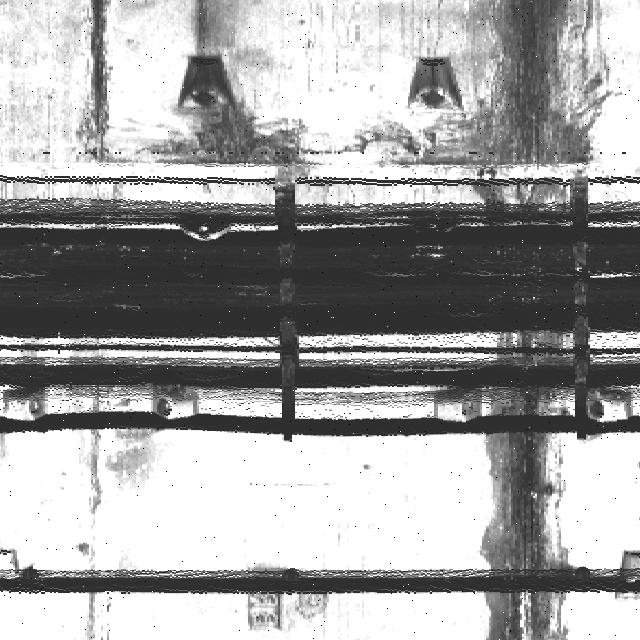leakage: (464, 312, 590, 639), (433, 1, 617, 158), (62, 0, 124, 164)
